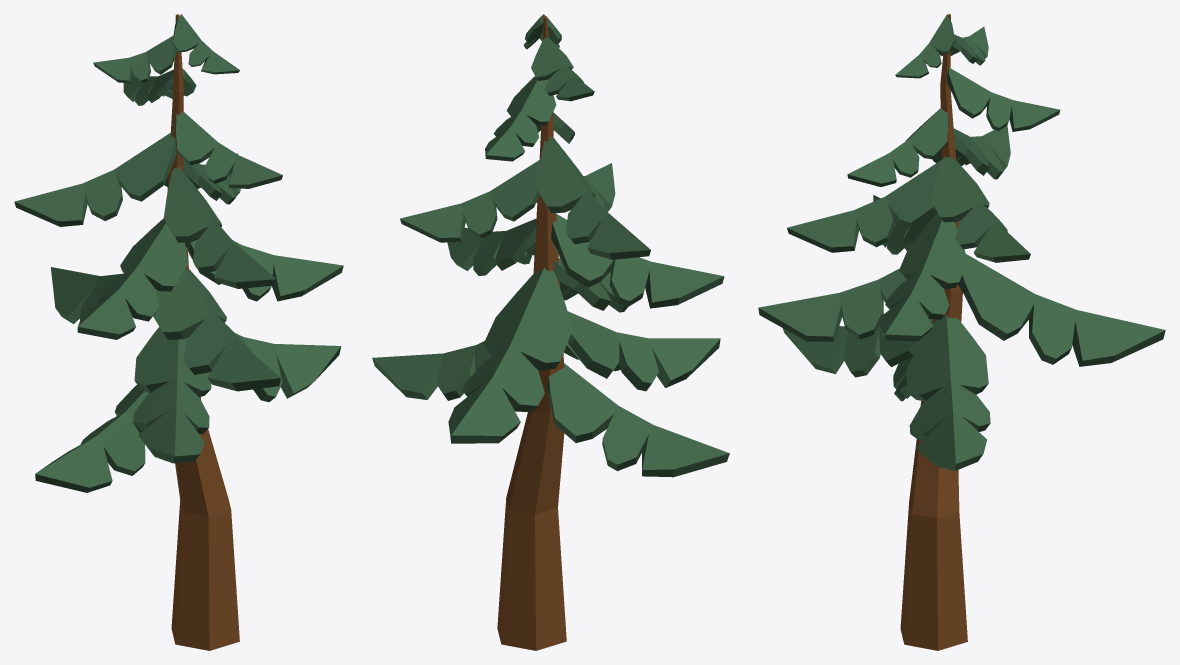
Rendered from Pine.fbx.
3 renders of one model, left to right at view 1: azimuth 30°, elevation 25°; view 2: azimuth 150°, elevation 25°; view 3: azimuth 270°, elevation 25°, orthographic. The views are drawn at different scales.
Parts seen in each view (by area): view 1: polySurface29, polySurface26, polySurface19, polySurface18, polySurface22, polySurface23, polySurface16, polySurface27, polySurface17, polySurface20, polySurface15, polySurface25 (+3 smaller); view 2: polySurface29, polySurface15, polySurface16, polySurface26, polySurface18, polySurface22, polySurface21, polySurface17, polySurface24, polySurface20, polySurface25, polySurface19 (+2 smaller); view 3: polySurface29, polySurface17, polySurface15, polySurface20, polySurface23, polySurface19, polySurface21, polySurface26, polySurface27, polySurface24, polySurface22, polySurface28 (+2 smaller).
Part boxes in pixels (left/top/right/bottom): polySurface29: left=167, top=14, right=239, bottom=650; polySurface26: left=133, top=327, right=211, bottom=463; polySurface19: left=153, top=268, right=280, bottom=391; polySurface18: left=77, top=218, right=187, bottom=339; polySurface22: left=14, top=132, right=176, bottom=226; polySurface23: left=163, top=166, right=276, bottom=288; polySurface16: left=35, top=384, right=149, bottom=492; polySurface27: left=174, top=111, right=282, bottom=188; polySurface17: left=235, top=333, right=341, bottom=402; polySurface20: left=185, top=240, right=343, bottom=301; polySurface15: left=51, top=267, right=124, bottom=323; polySurface25: left=93, top=35, right=177, bottom=83; polySurface29: left=497, top=16, right=566, bottom=650; polySurface15: left=448, top=267, right=572, bottom=443; polySurface16: left=546, top=363, right=729, bottom=477; polySurface26: left=564, top=311, right=720, bottom=391; polySurface18: left=551, top=214, right=724, bottom=308; polySurface22: left=536, top=136, right=650, bottom=259; polySurface21: left=400, top=160, right=539, bottom=242; polySurface17: left=372, top=341, right=492, bottom=400; polySurface24: left=485, top=76, right=556, bottom=161; polySurface20: left=447, top=218, right=536, bottom=275; polySurface25: left=531, top=37, right=594, bottom=101; polySurface19: left=553, top=258, right=627, bottom=312; polySurface29: left=900, top=14, right=967, bottom=650; polySurface17: left=906, top=315, right=990, bottom=470; polySurface15: left=958, top=254, right=1165, bottom=366; polySurface20: left=879, top=215, right=967, bottom=341; polySurface23: left=787, top=160, right=942, bottom=252; polySurface19: left=758, top=268, right=906, bottom=341; polySurface21: left=931, top=156, right=1030, bottom=262; polySurface26: left=782, top=319, right=932, bottom=377; polySurface27: left=847, top=108, right=948, bottom=186; polySurface24: left=946, top=67, right=1060, bottom=131; polySurface22: left=932, top=125, right=1010, bottom=179; polySurface28: left=895, top=15, right=955, bottom=78.
Bounding box in the file's own units: 1516 × 2731 × 1647.
